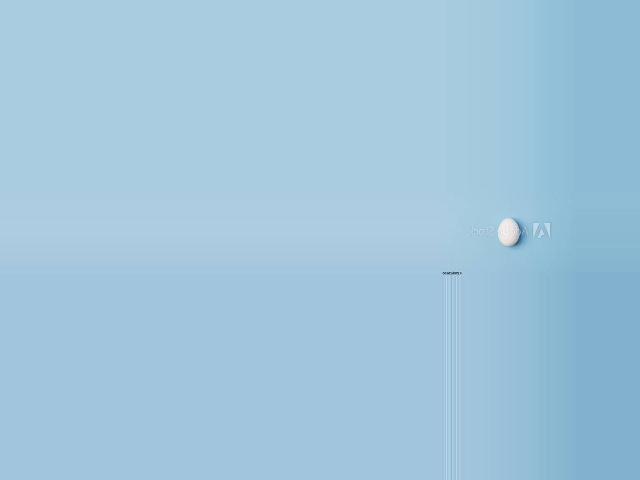egg: (497, 219, 519, 246)
